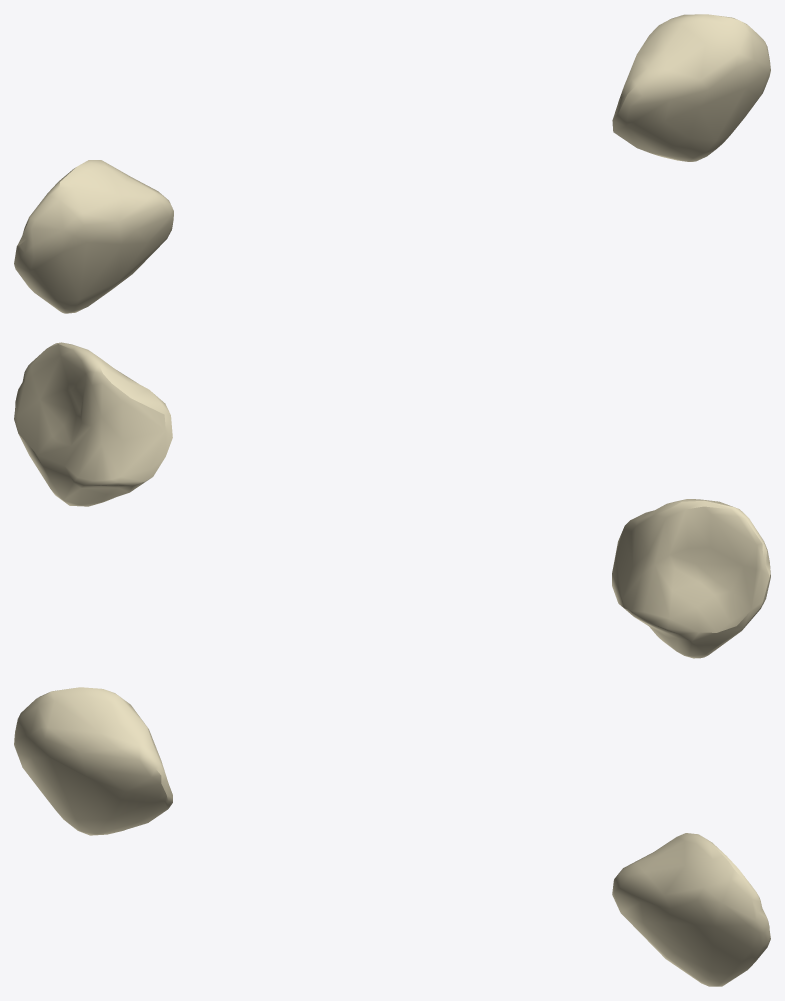
Rendered from patella.glb.
3 renders of one model, top to bottom at view 1: azimuth 30°, elevation 25°; view 2: azimuth 150°, elevation 25°; view 3: azimuth 330°, elevation 25°, orthographic.
Parts seen in each view (by area): view 1: Patella; view 2: Patella; view 3: Patella.
Part boxes in pixels (x1,y1,x2,y2): Patella: (14,14,770,313); Patella: (14,342,770,658); Patella: (14,687,770,986).
Size of the model in its own units: 0.2045 by 0.0393 by 0.0218.
